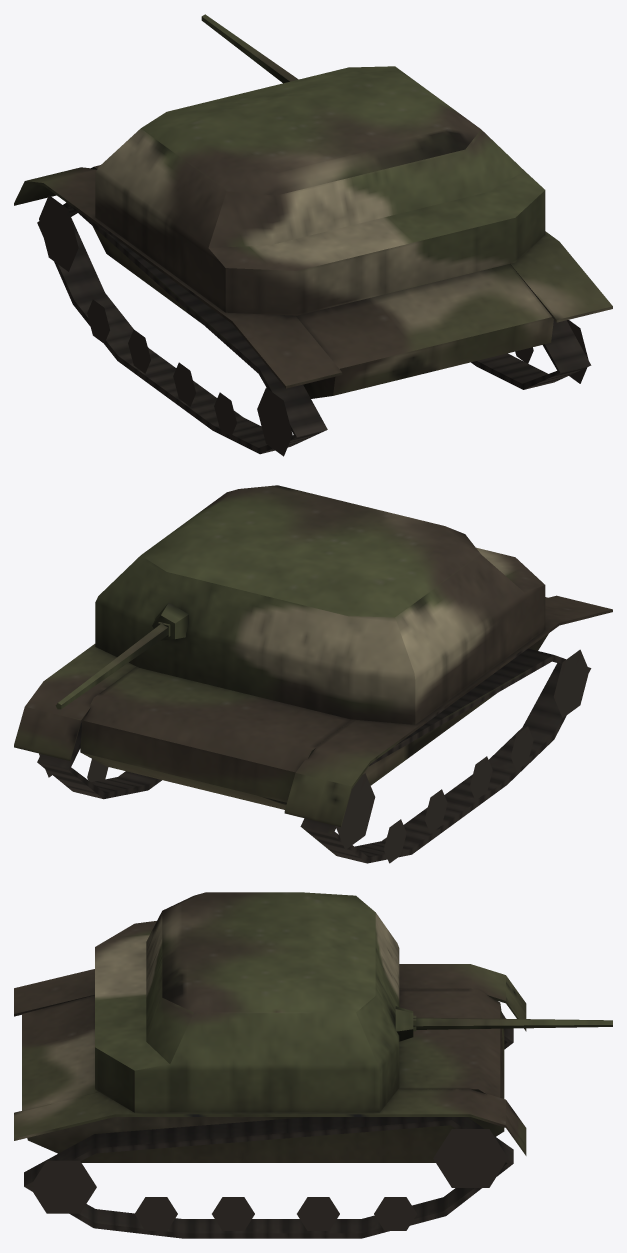
Rendered from TKS20_LOW.fbx.
The picture shows the model from 3 angles, top to bottom: view 1: azimuth 30°, elevation 25°; view 2: azimuth 150°, elevation 25°; view 3: azimuth 270°, elevation 25°; orthographic projection. The views are drawn at different scales.
Parts seen in each view (by area): view 1: Chassis, Chenille_Gauche_01, Chenille_Droite_01, Roue_G1, Roue_G6, Canon_01, Roue_G5, Roue_G2, Roue_G3, Roue_G4; view 2: Chassis, Chenille_Gauche_01, Chenille_Droite_01, Roue_G1, Roue_G6, Canon_01, Tourelle_01, Roue_G2, Roue_G5, Roue_G3, Roue_G4; view 3: Chassis, Chenille_Droite_01, Roue_D1, Roue_D6, Canon_01, Roue_D2, Roue_D3, Roue_D4, Roue_D5, Tourelle_01.
Boxes of the visible parts, box(x1,y1,x2,y2) form: Chassis: box(14, 66, 612, 398); Chenille_Gauche_01: box(37, 202, 327, 454); Chenille_Droite_01: box(471, 320, 591, 389); Roue_G1: box(39, 195, 78, 271); Roue_G6: box(257, 388, 292, 456); Canon_01: box(201, 14, 298, 83); Roue_G5: box(214, 392, 236, 436); Roue_G2: box(87, 299, 109, 343); Roue_G3: box(128, 329, 150, 373); Roue_G4: box(173, 362, 195, 406); Chassis: box(14, 485, 612, 826); Chenille_Gauche_01: box(300, 648, 591, 863); Chenille_Droite_01: box(37, 722, 161, 799); Roue_G1: box(335, 773, 375, 849); Roue_G6: box(553, 649, 589, 718); Canon_01: box(55, 622, 168, 709); Tourelle_01: box(152, 602, 188, 640); Roue_G2: box(383, 819, 406, 863); Roue_G5: box(510, 726, 533, 770); Roue_G3: box(424, 789, 447, 833); Roue_G4: box(469, 756, 492, 800); Chassis: box(14, 892, 526, 1162); Chenille_Droite_01: box(24, 1117, 513, 1238); Roue_D1: box(433, 1129, 507, 1187); Roue_D6: box(30, 1160, 96, 1213); Canon_01: box(413, 1017, 612, 1029); Roue_D2: box(374, 1197, 416, 1230); Roue_D3: box(297, 1197, 339, 1230); Roue_D4: box(212, 1197, 254, 1230); Roue_D5: box(135, 1197, 177, 1230); Tourelle_01: box(395, 1006, 413, 1041).
Bounding box in the file's own units: 180 × 303 × 127.
Materials: 1 (1 with a texture image).
